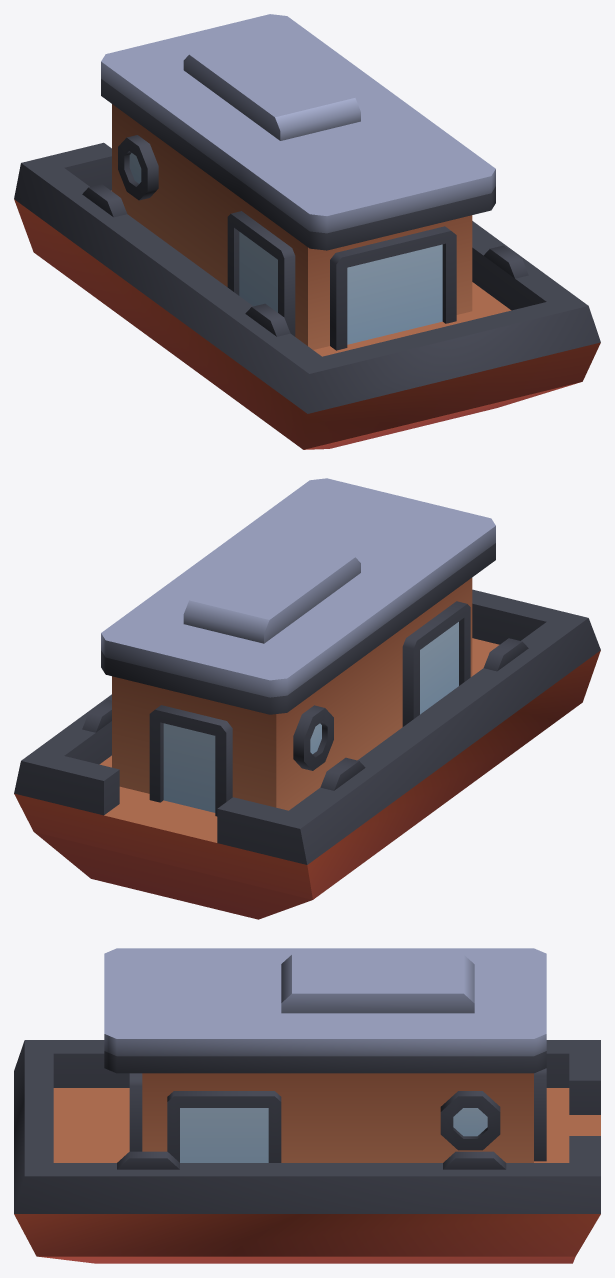
Rendered from boat-house-a.glb.
3 renders of one model, top to bottom at view 1: azimuth 30°, elevation 25°; view 2: azimuth 150°, elevation 25°; view 3: azimuth 270°, elevation 25°, orthographic.
Visible parts, largest first — view 1: boat-house-a; view 2: boat-house-a; view 3: boat-house-a.
Part boxes in pixels (box(x1,y1,x2,y2)): boat-house-a: box(14, 14, 600, 449); boat-house-a: box(14, 478, 600, 919); boat-house-a: box(14, 948, 600, 1263).
Size of the model in its own units: 2.68 by 2.17 by 4.64.
